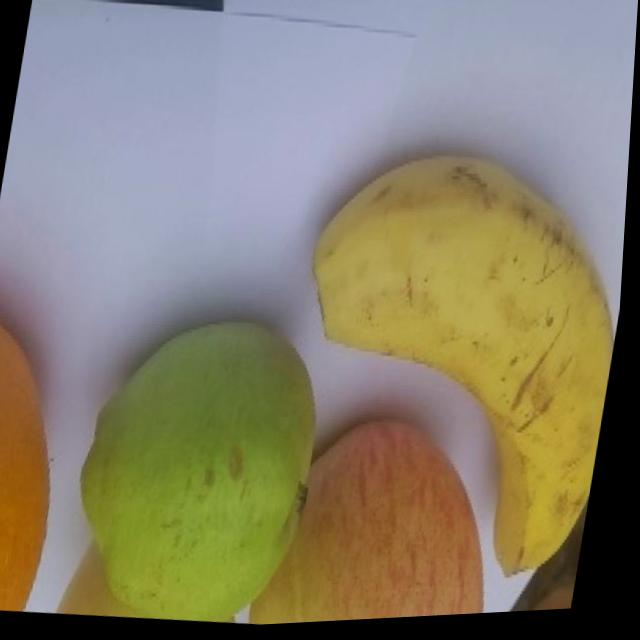Apple: (249, 405, 521, 629)
Banana: (268, 140, 632, 600)
Orange: (0, 301, 90, 615)
